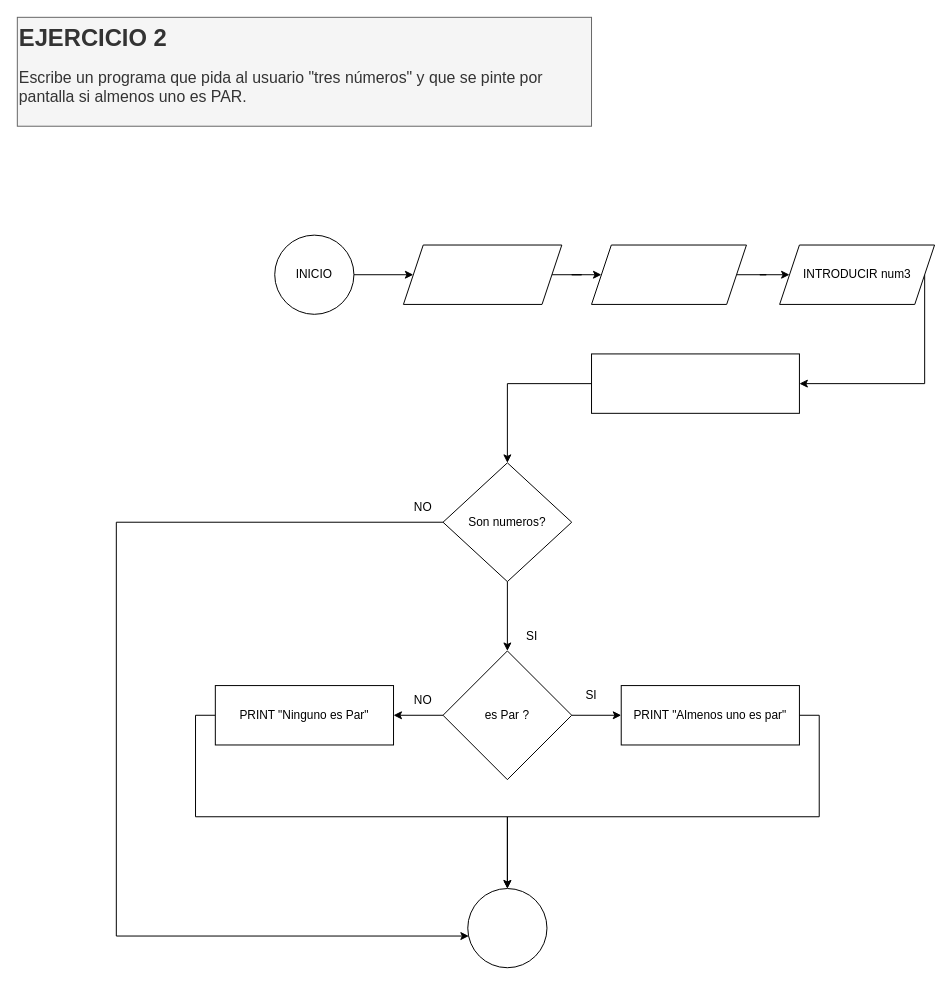
Some shapes in this 952 by 985 pixel diagram are drawn without their labels. Here are the shapes that lost their labels. From the top down, the centre of each, then its label:
At (x=482, y=274): "INTRODUCIR num1".
At (x=668, y=274): "INTRODUCIR num2".
At (x=695, y=383): "const es Par = num%2 === 0".
At (x=507, y=928): "FIN".
